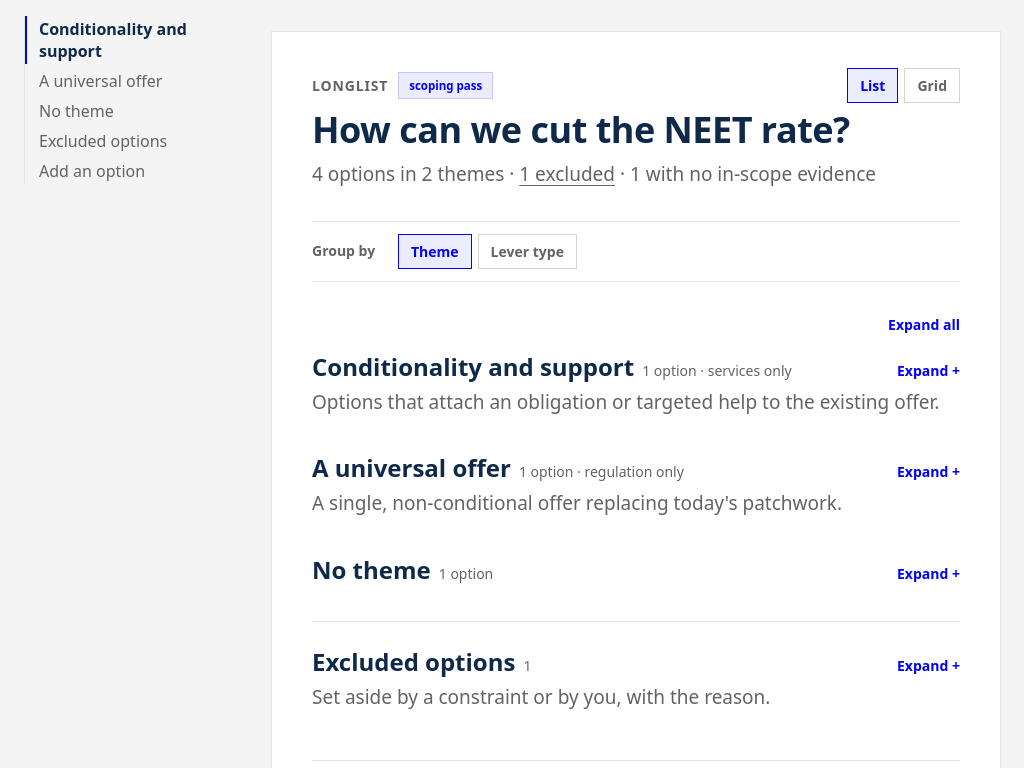
LonglistView › an excluded row shows its count, exclusion reason and relation
The image size is (1024, 768).
Step 1. Click the button "Excluded options1 Expand +" → (414, 662), box [312,646,960,677]
(page scrolled)
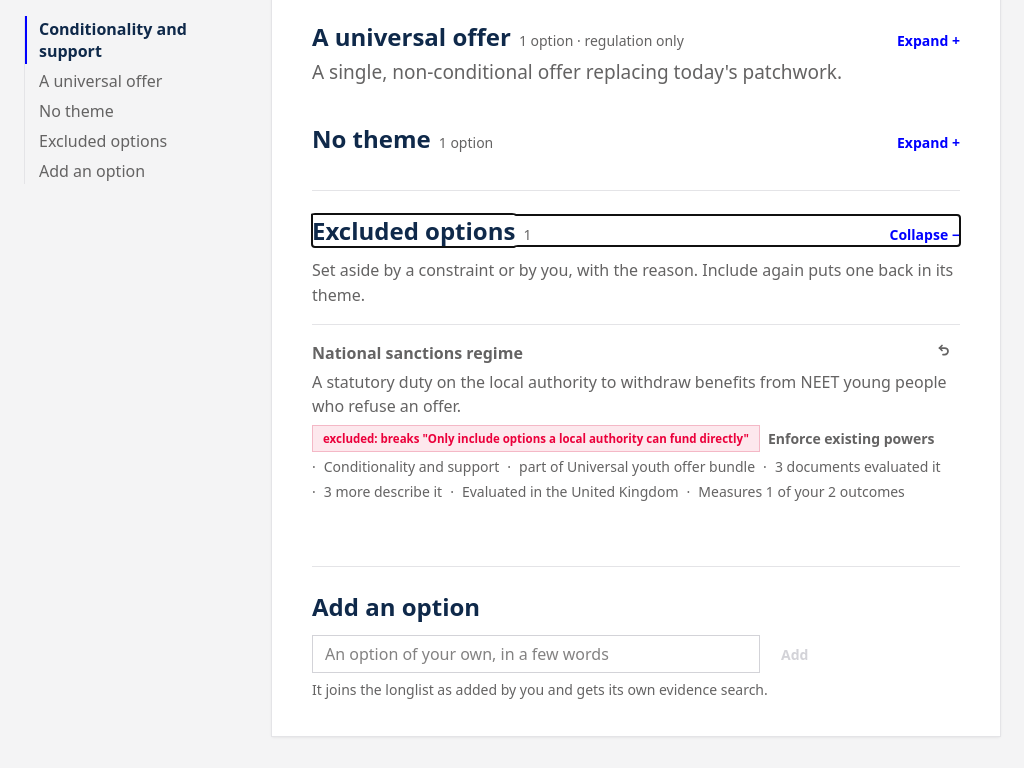
Check: the list item "National sanctions regime" is shown, box [312,341,523,366]
Check: the text "3 documents evaluated it" is shown, box [775,456,941,478]
Check: the text "excluded: breaks \"Only include options a local authority can fund directly\"" is shown, box [312,425,760,452]
